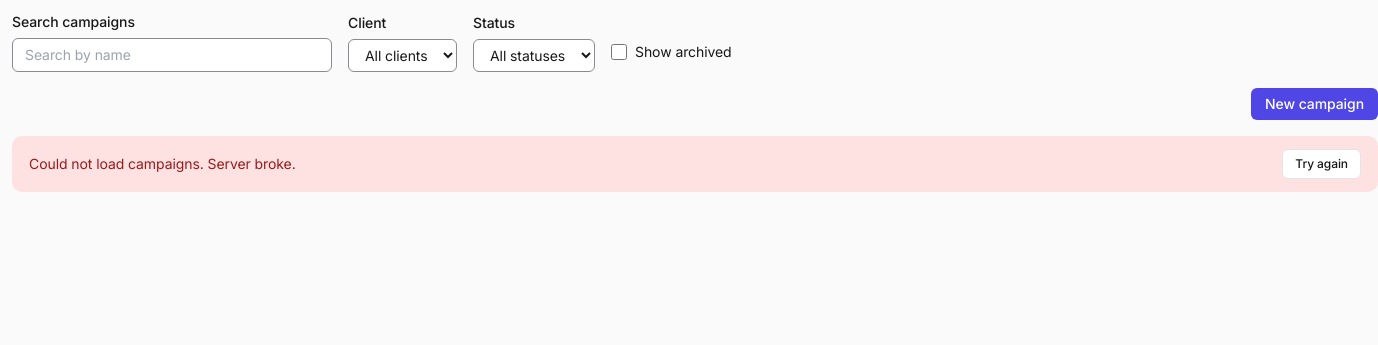
Test: CampaignList › shows an error with a retry
Check: the message shows "Server broke.", box [208,155,296,172]
Click the button "Try again".
click(1322, 164)  # box [1282,149,1361,179]
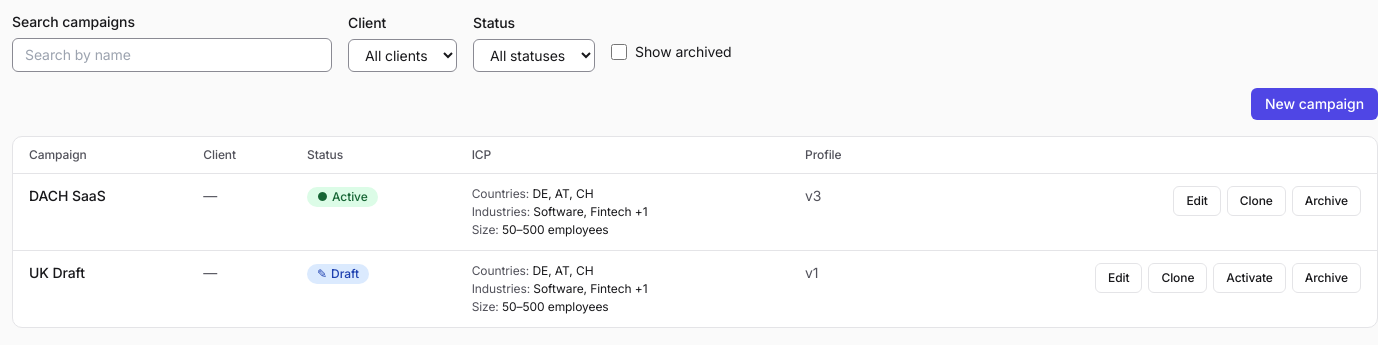
Check: the text "DACH SaaS" is shown, box [29,187,106,204]
